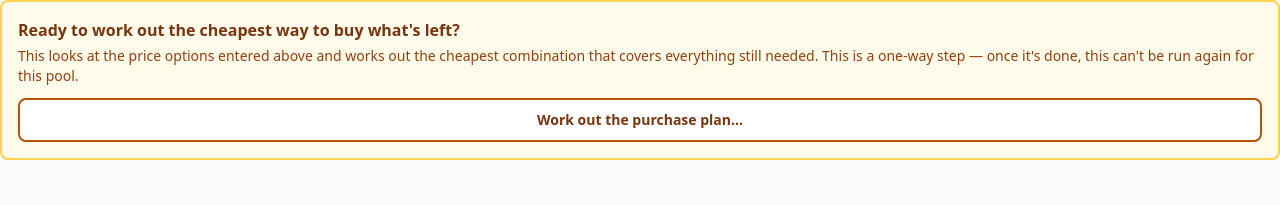
Test: GeneratePurchasePlanAction › shows the specific missing-price-option message on a 409, not the generic message
Click the button "Work out the purchase plan…" at (640, 120), box [18, 98, 1262, 142]
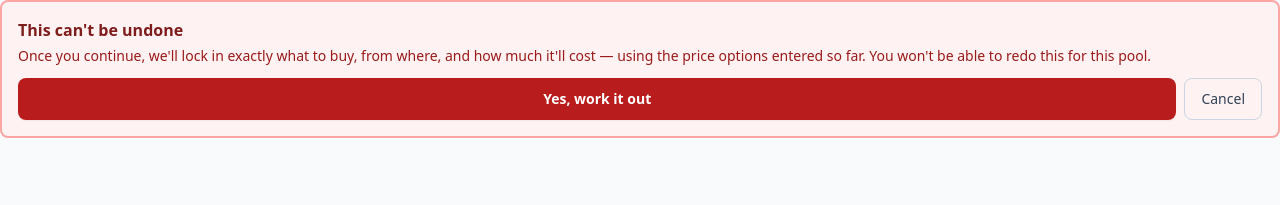
Click the button "Yes, work it out" at (597, 99), box [18, 78, 1176, 120]
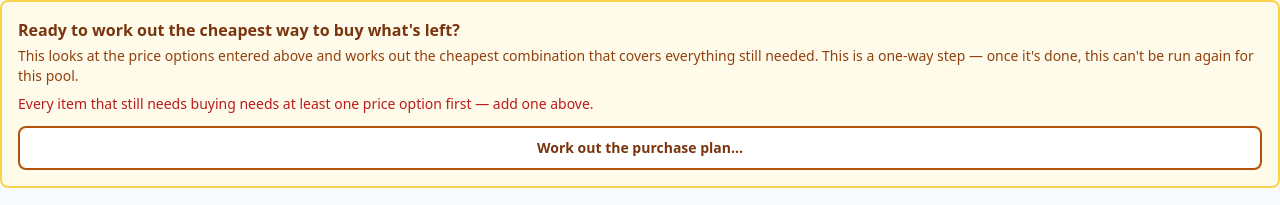
Check: the text "Every item that still needs buying needs at least one price option first" is shown, box [18, 94, 594, 113]
